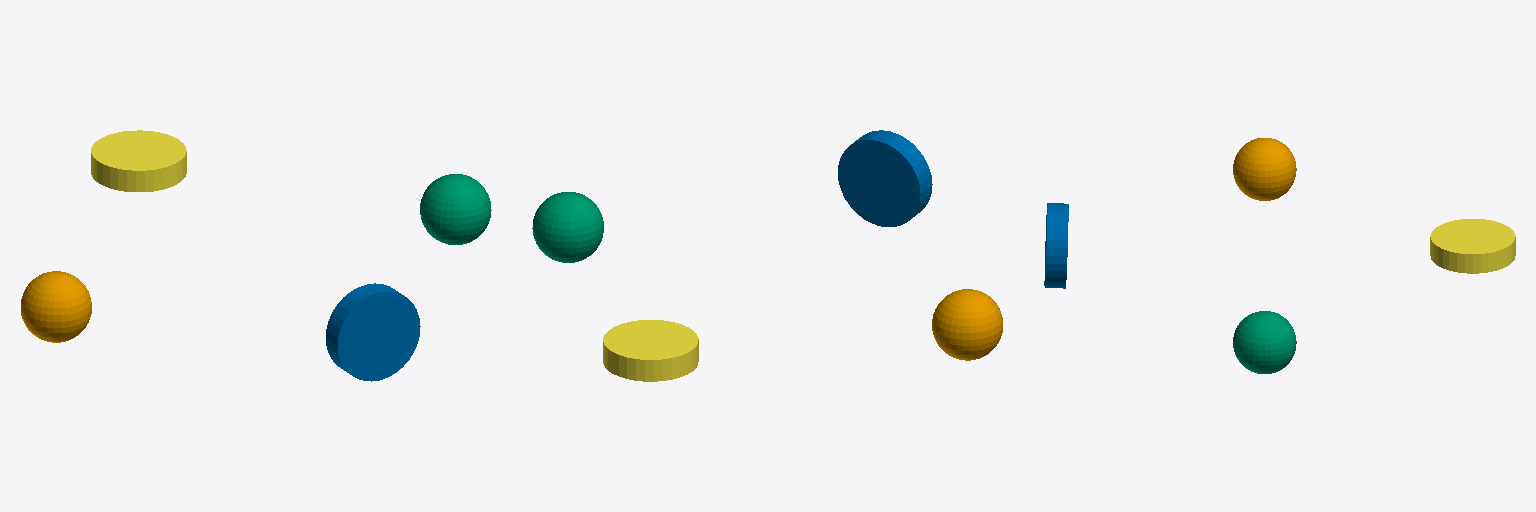
URDF robot description (dodo_model):
<robot name="dodo_model" version="1.0">
  <joint name="back_caster_link_joint" type="continuous">
    <limit lower="0" upper="0" effort="0.00000" velocity="0.00000"/>
    <origin rpy="-0.00000 0.00000 0.00000" xyz="-0.19276 0.00000 0.00000"/>
    <parent link="body_link"/>
    <child link="back_caster_link"/>
    <axis xyz="0.00000 0.00000 1.00000"/>
  </joint>
  <joint name="front_caster_link_joint" type="continuous">
    <limit lower="0" upper="0" effort="0.00000" velocity="0.00000"/>
    <origin rpy="-0.00000 0.00000 0.00000" xyz="0.19276 0.00000 0.00000"/>
    <parent link="body_link"/>
    <child link="front_caster_link"/>
    <axis xyz="0.00000 0.00000 1.00000"/>
  </joint>
  <joint name="left_wheel_link_joint" type="continuous">
    <limit lower="0" upper="0" effort="0.00000" velocity="0.00000"/>
    <origin rpy="3.14159 0.00000 3.14159" xyz="0.00000 0.19578 0.01022"/>
    <parent link="body_link"/>
    <child link="left_wheel_link"/>
    <axis xyz="0.00000 0.00000 1.00000"/>
  </joint>
  <joint name="right_wheel_link_joint" type="continuous">
    <limit lower="0" upper="0" effort="0.00000" velocity="0.00000"/>
    <origin rpy="1.53589 0.00000 0.00000" xyz="0.00000 -0.19578 0.01059"/>
    <parent link="body_link"/>
    <child link="right_wheel_link"/>
    <axis xyz="0.00000 0.00000 1.00000"/>
  </joint>
  <link name="back_caster_link">
    <collision name="back_caster_collision">
      <origin rpy="0.00000 0.00000 0.00000" xyz="0.00000 0.00000 0.00000"/>
      <geometry>
        <sphere radius="0.05196"/>
      </geometry>
    </collision>
    <visual name="back_caster">
      <origin rpy="0.00000 0.00000 0.00000" xyz="0.00000 0.00000 0.00000"/>
      <geometry>
        <sphere radius="0.03000"/>
      </geometry>
    </visual>
  </link>
  <link name="body_link">
    <collision name="body_collision">
      <origin rpy="-0.00000 0.00000 0.00000" xyz="0.00039 0.00000 0.45238"/>
      <geometry>
        <cylinder radius="0.27358" length="0.89942"/>
      </geometry>
    </collision>
    <inertial>
      <inertia ixx="0.00500" ixy="0.00000" ixz="0.00000" iyy="0.00500" iyz="0.00000" izz="0.00500"/>
      <origin rpy="0.00000 0.00000 0.00000" xyz="0.00000 0.00000 0.00000"/>
      <mass value="0.00500"/>
    </inertial>
    <visual name="body">
      <origin rpy="0.00000 0.00000 0.00000" xyz="0.00000 0.00000 0.00000"/>
      <material name="Material.001"/>
      <geometry>
        <mesh filename="../meshes/stl/Cylinder.stl" scale="0.26000 0.26000 0.12844"/>
      </geometry>
    </visual>
  </link>
  <link name="front_caster_link">
    <collision name="front_caster_collision">
      <origin rpy="0.00000 0.00000 0.00000" xyz="0.00000 0.00000 0.00000"/>
      <geometry>
        <sphere radius="0.05196"/>
      </geometry>
    </collision>
    <visual name="front_caster">
      <origin rpy="0.00000 0.00000 0.00000" xyz="0.00000 0.00000 0.00000"/>
      <geometry>
        <sphere radius="0.03000"/>
      </geometry>
    </visual>
  </link>
  <link name="left_wheel_link">
    <collision name="left_wheel_collision">
      <origin rpy="3.14157 -0.00122 -3.14157" xyz="0.00000 0.00000 -0.00000"/>
      <geometry>
        <cylinder radius="0.05000" length="0.10000"/>
      </geometry>
    </collision>
    <visual name="left_wheel">
      <origin rpy="0.00000 0.00000 3.14159" xyz="0.00000 0.00000 -0.00000"/>
      <geometry>
        <cylinder radius="0.04000" length="0.02000"/>
      </geometry>
    </visual>
  </link>
  <link name="right_wheel_link">
    <collision name="right_wheel_collision">
      <origin rpy="0.03489 0.00122 -0.03489" xyz="0.00000 -0.00000 -0.00000"/>
      <geometry>
        <cylinder radius="0.05000" length="0.10000"/>
      </geometry>
    </collision>
    <visual name="right_wheel">
      <origin rpy="0.00000 0.00000 0.00000" xyz="0.00000 -0.00000 -0.00000"/>
      <geometry>
        <cylinder radius="0.04000" length="0.02000"/>
      </geometry>
    </visual>
  </link>
  <material name="Material.001">
    <color rgba="0.80000 0.80000 0.80000 1.00000"/>
  </material>
</robot>

--- What the picture shows (computed from the rendered views, not written in the file) ---
The picture shows the robot from 3 angles, left to right: view 1: azimuth 30°, elevation 25°; view 2: azimuth 150°, elevation 25°; view 3: azimuth 270°, elevation 25°; orthographic projection.
Robot: dodo_model — 5 links, 4 joints (4 continuous); root link body_link; default pose: every joint at zero.
Visible links, largest first — view 1: right_wheel_link, left_wheel_link, back_caster_link, front_caster_link; view 2: right_wheel_link, left_wheel_link, front_caster_link, back_caster_link; view 3: left_wheel_link, back_caster_link, front_caster_link, right_wheel_link.
Boxes of the visible links, left/top/right/bottom form: right_wheel_link: left=326, top=283, right=420, bottom=381; left_wheel_link: left=91, top=130, right=186, bottom=191; back_caster_link: left=21, top=271, right=91, bottom=342; front_caster_link: left=420, top=174, right=491, bottom=244; right_wheel_link: left=838, top=130, right=932, bottom=226; left_wheel_link: left=603, top=320, right=698, bottom=381; front_caster_link: left=532, top=192, right=603, bottom=262; back_caster_link: left=932, top=289, right=1002, bottom=360; left_wheel_link: left=1430, top=219, right=1515, bottom=273; back_caster_link: left=1233, top=138, right=1296, bottom=200; front_caster_link: left=1233, top=311, right=1296, bottom=373; right_wheel_link: left=1044, top=203, right=1068, bottom=288.
Size in the robot's own frame: 0.4455 by 0.4429 by 0.0809 metres.
Geometry: only primitive shapes (box / cylinder / sphere) drawn; not drawn: 1 mesh visual (reference in a form the renderer does not follow).